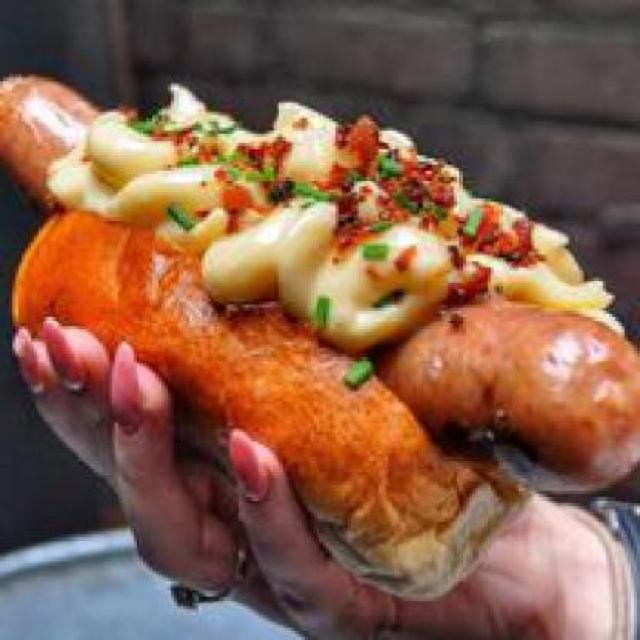hot dog: (3, 56, 119, 206)
macaroni and cheese: (43, 74, 594, 346)
